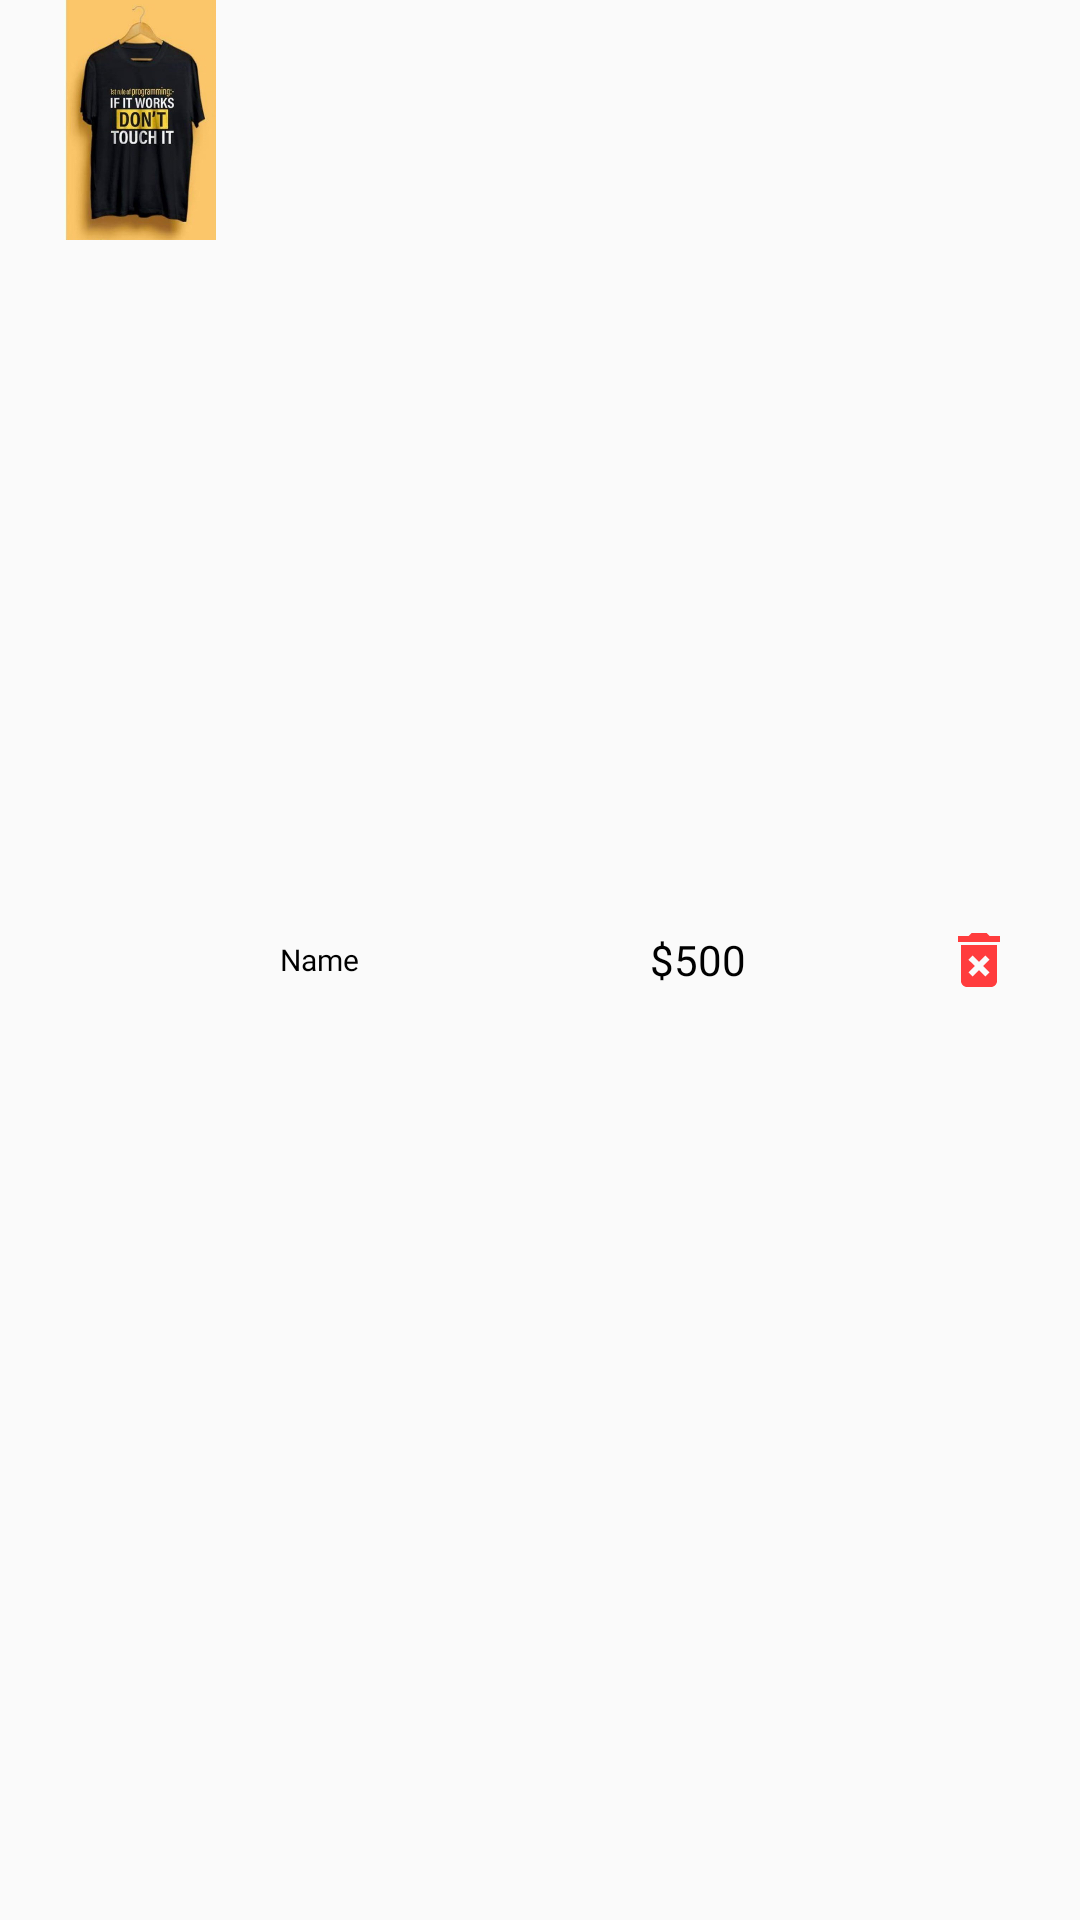

Icons on this 1080px×1920px Android screen, each with its box as (x1, y1, x2, y2):
delete forever: (958, 933, 1000, 987)
